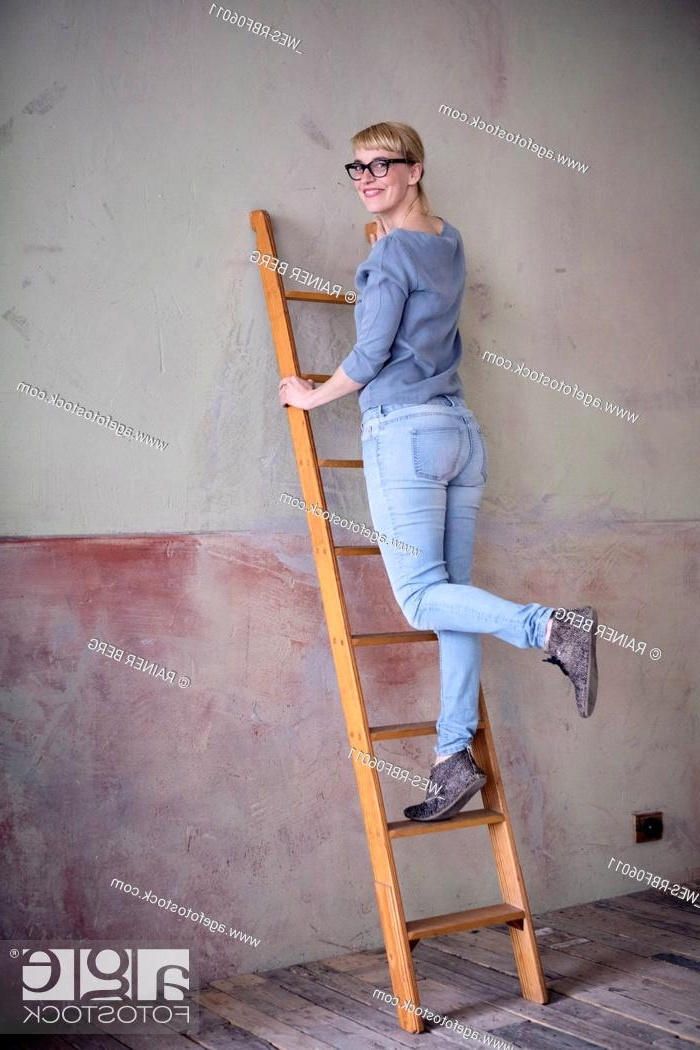not_fallen: (261, 82, 633, 879)
